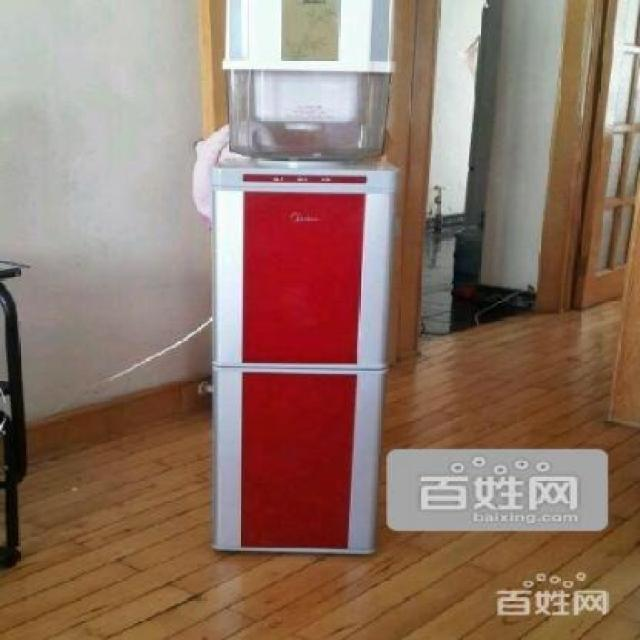cooler: (206, 0, 405, 557)
